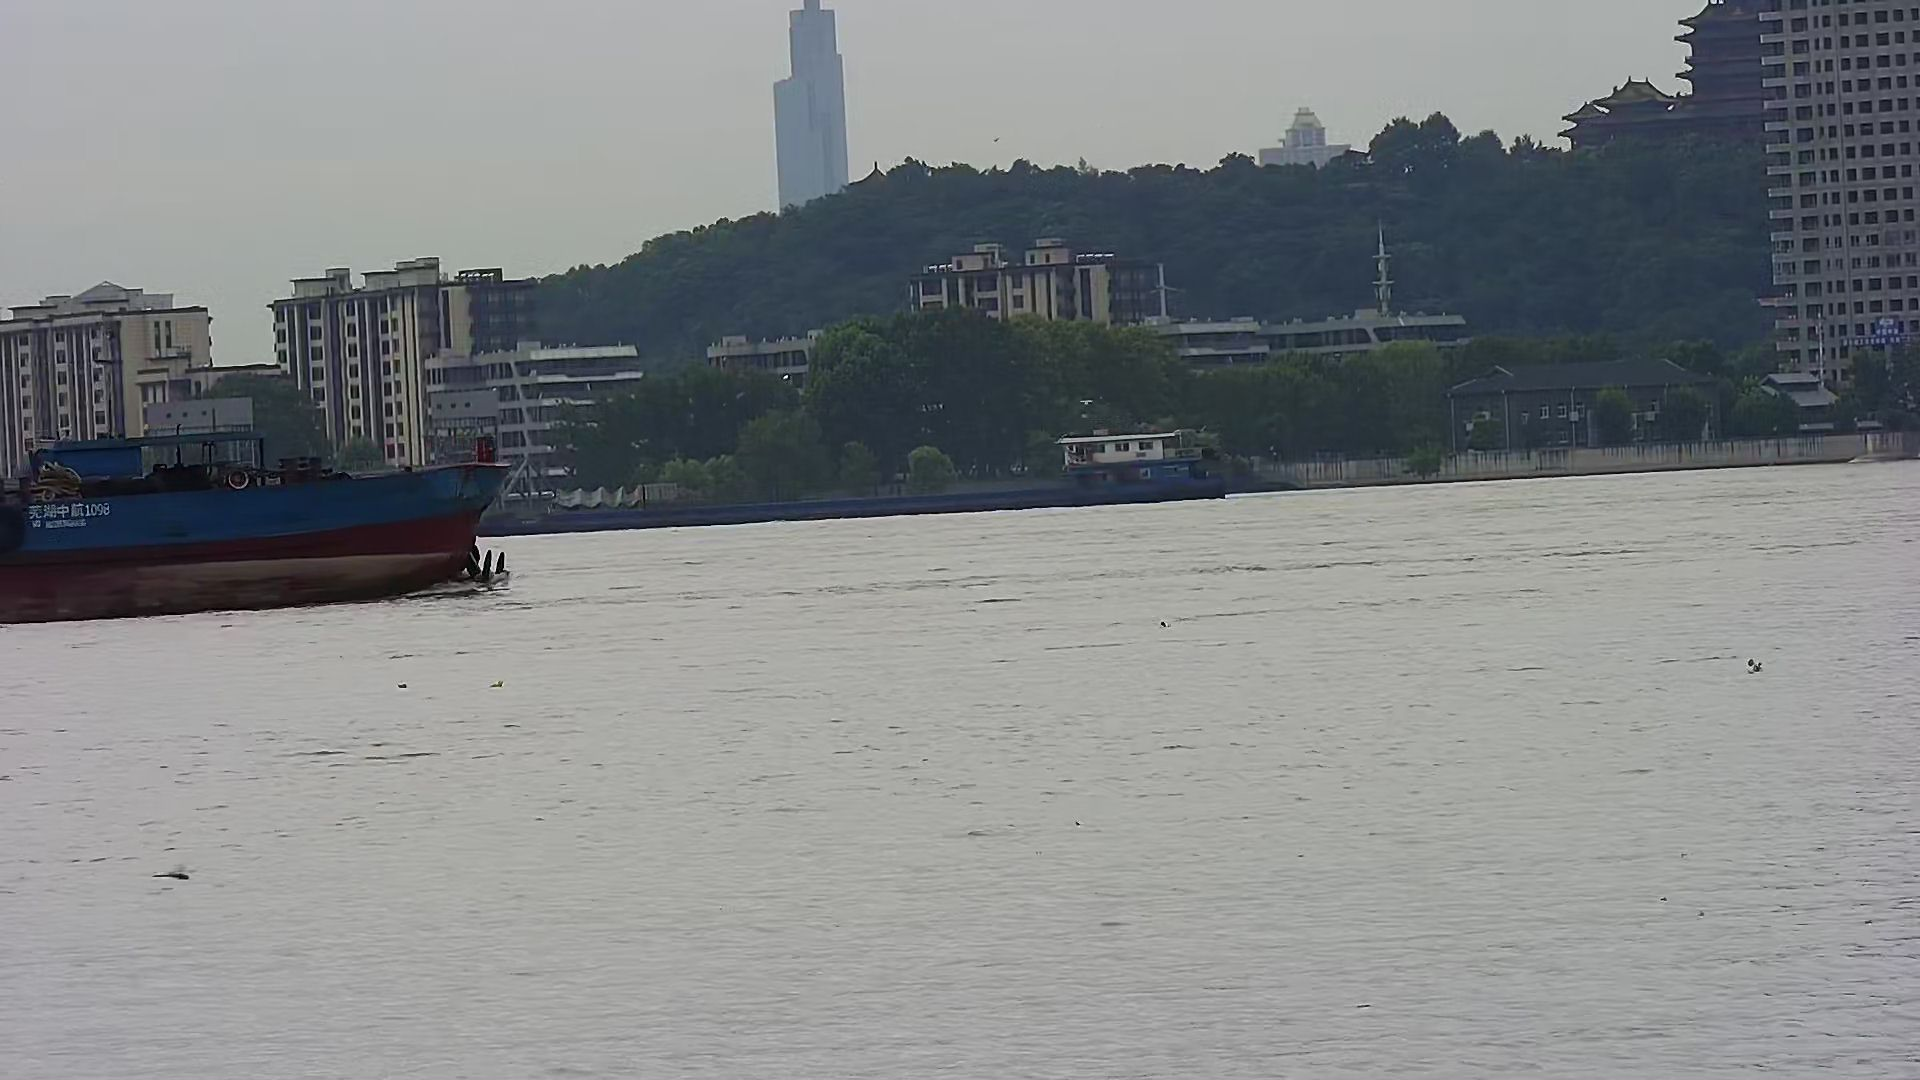boat: (480, 443, 1275, 547)
ship: (1, 396, 529, 641)
